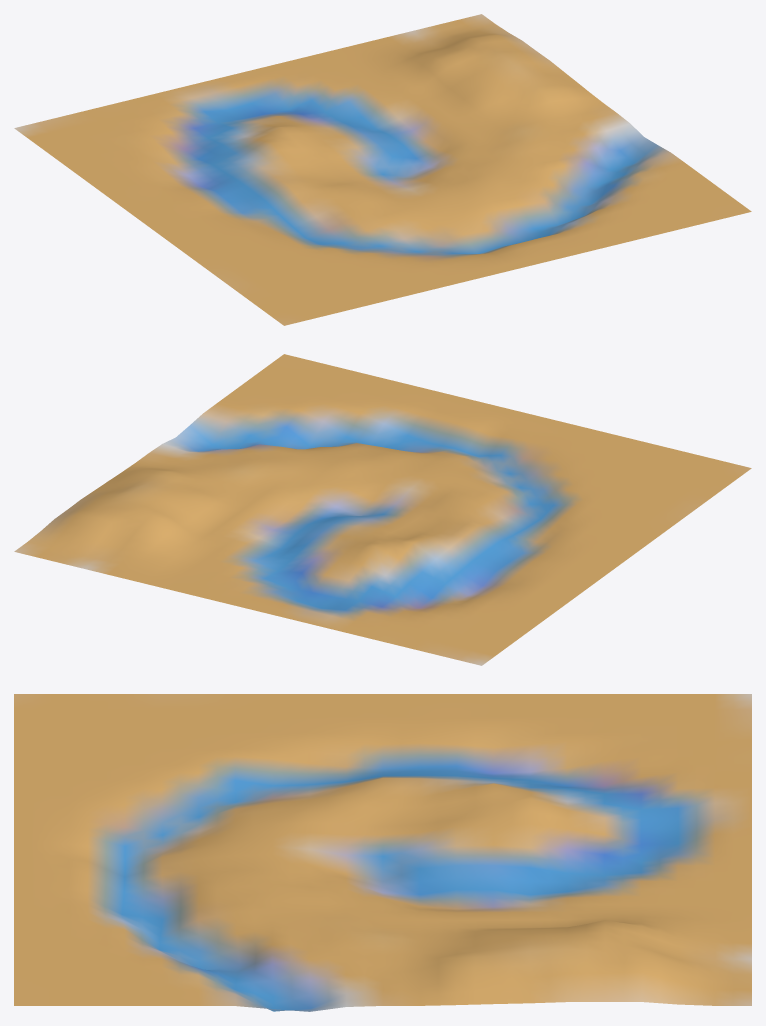
Rendered from LandScapeTest 3.fbx.
3 renders of one model, top to bottom at view 1: azimuth 30°, elevation 25°; view 2: azimuth 150°, elevation 25°; view 3: azimuth 270°, elevation 25°, orthographic. The views are drawn at different scales.
Visible parts, largest first — view 1: Plane.001; view 2: Plane.001; view 3: Plane.001.
Part boxes in pixels (box(x1,y1,x2,y2)): Plane.001: box(14, 14, 751, 325); Plane.001: box(14, 354, 751, 665); Plane.001: box(14, 694, 751, 1011).
Bounding box in the file's own units: 2001 × 158 × 2000.
